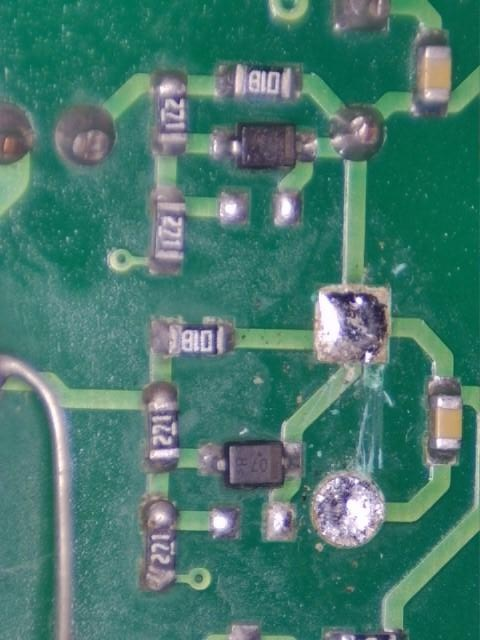pcb_defect: (316, 284, 390, 363), (316, 475, 383, 544)
